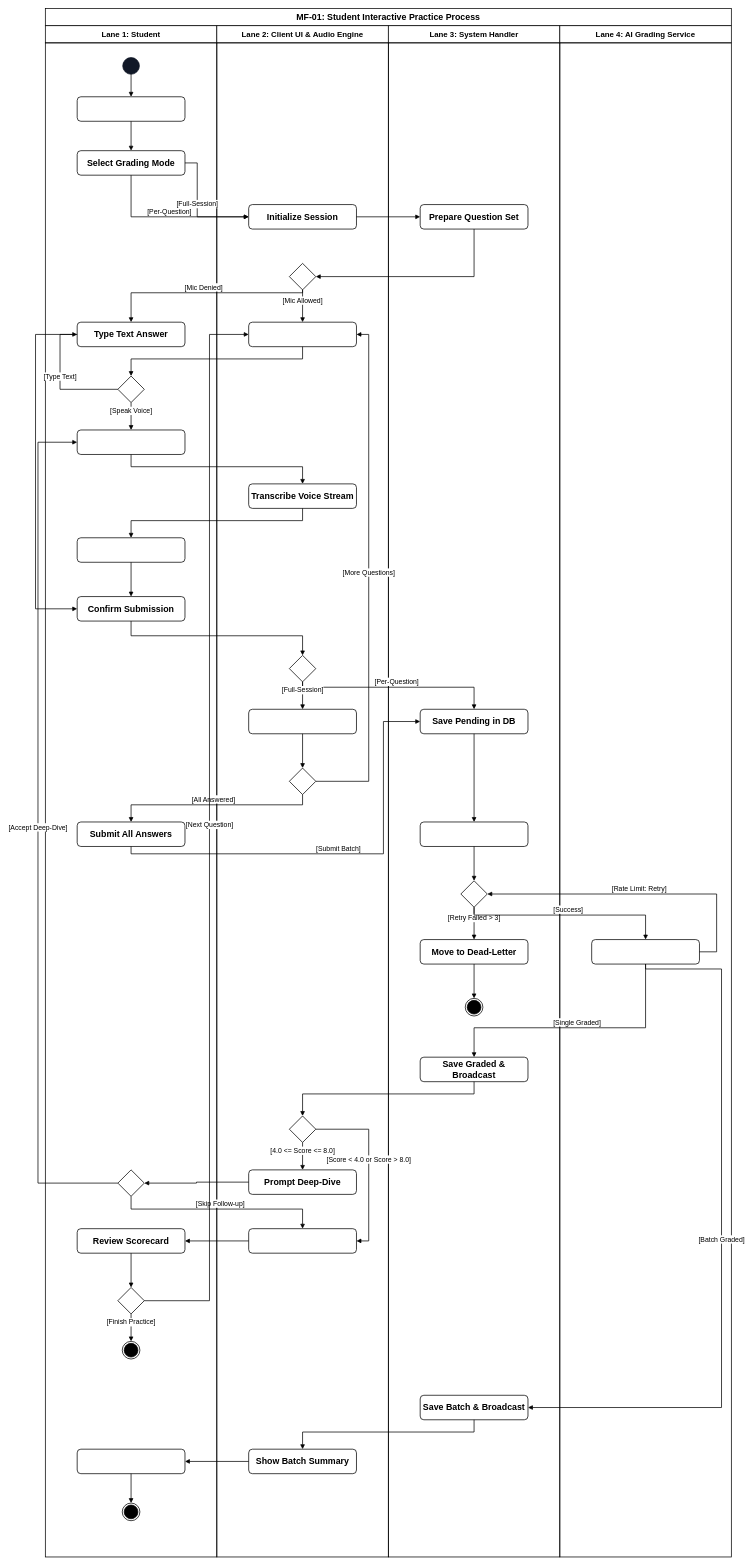
This 753x1566 diagram has some shape labels left out. The centre of each missing label's shape, as x and y in pixels:
"Cache Answer Locally" goes at (x=302, y=721).
"Enqueue Grading Task" goes at (x=474, y=834).
"Grade with Gemini AI" goes at (x=645, y=951).
"Play Question Audio" goes at (x=302, y=334).
"Review 60s Transcript" goes at (x=131, y=549).
"Review Batch Summary" goes at (x=131, y=1461).
"Select Subject" goes at (x=131, y=108).
"Show Scorecard Modal" goes at (x=302, y=1240).
"Speak Voice Answer" goes at (x=131, y=442).
